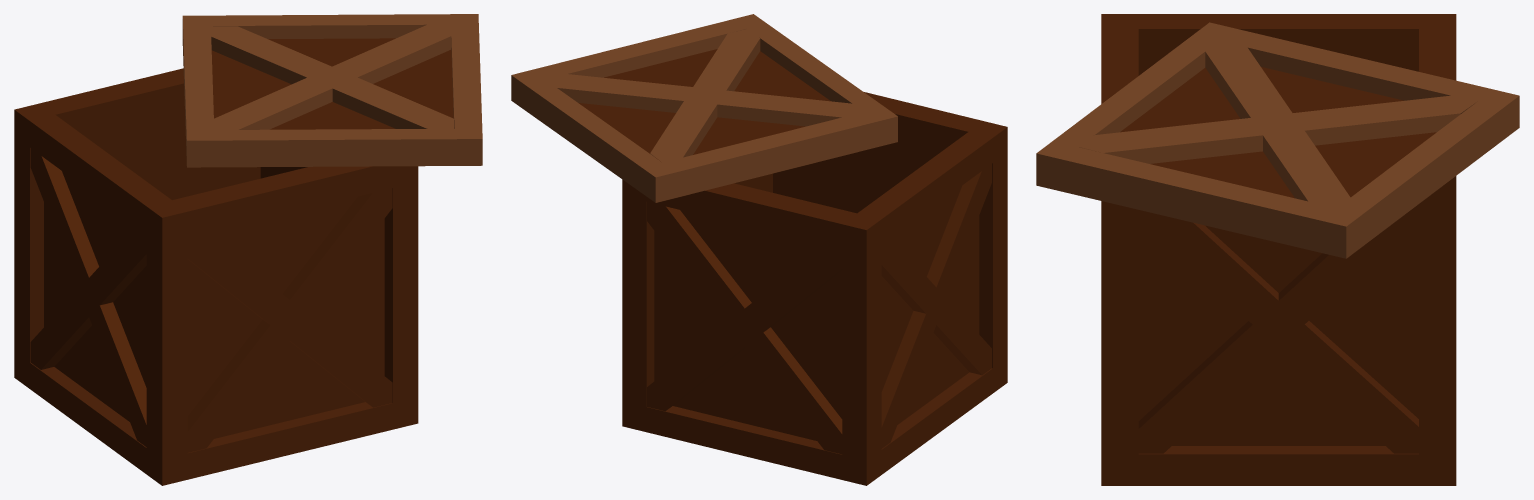
File: crate.fbx
The picture shows the model from 3 angles, left to right: view 1: azimuth 30°, elevation 25°; view 2: azimuth 150°, elevation 25°; view 3: azimuth 270°, elevation 25°; orthographic projection. The views are drawn at different scales.
Parts seen in each view (by area): view 1: Cube, Cube.005; view 2: Cube, Cube.005; view 3: Cube, Cube.005.
Boxes of the visible parts, <box> form: Cube: <box>14,68,418,485</box>; Cube.005: <box>182,14,482,167</box>; Cube: <box>622,92,1007,485</box>; Cube.005: <box>511,14,897,202</box>; Cube: <box>1101,14,1456,485</box>; Cube.005: <box>1036,22,1519,258</box>.
Size of the model in its own units: 327 by 220 by 272.
